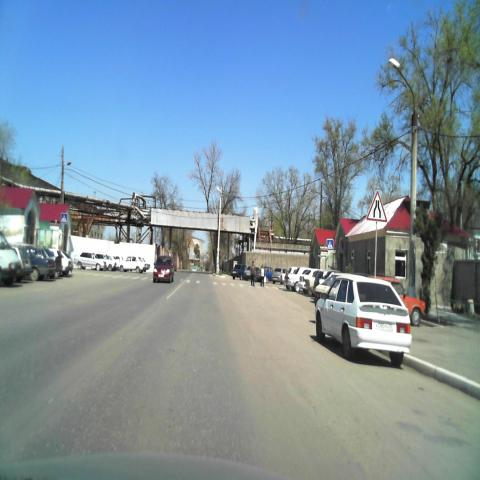1_20: (366, 184, 387, 224)
